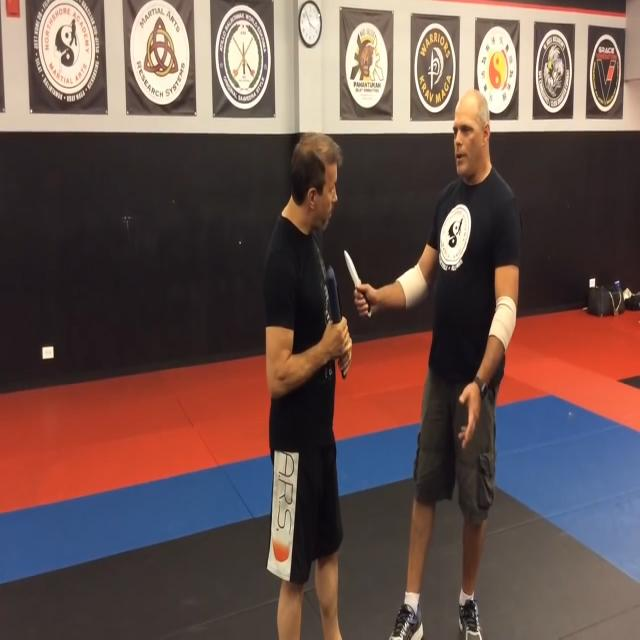knife: (342, 245, 364, 297)
